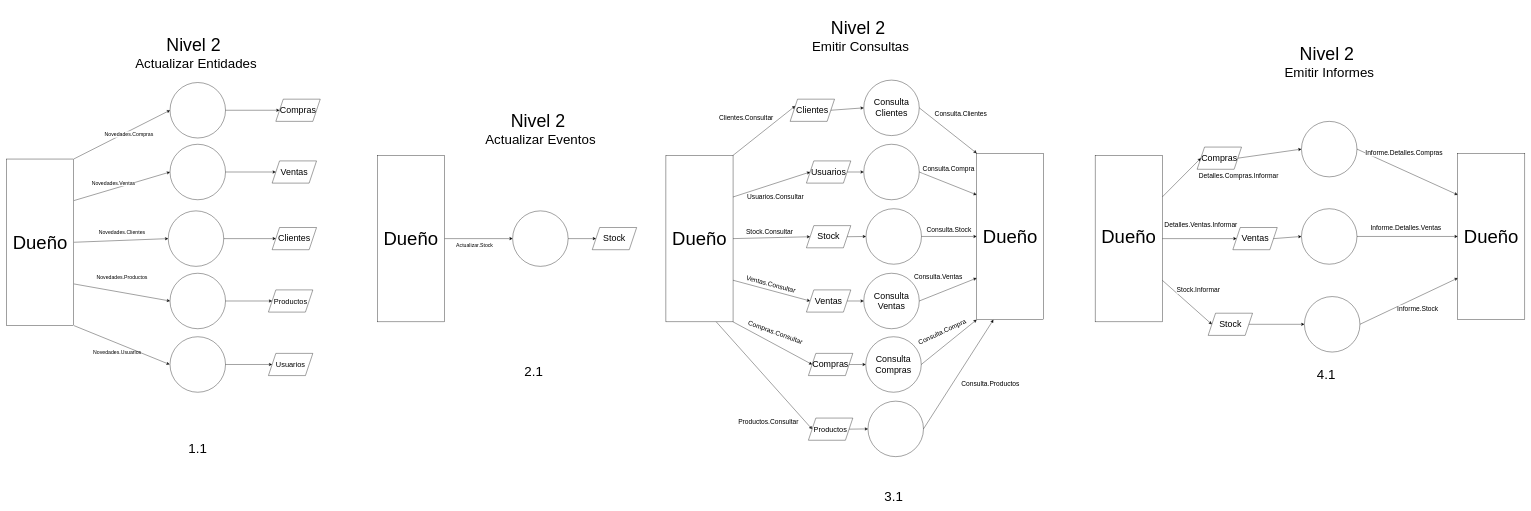
This 1531x511 diagram has some shape labels left out. The shapes that lost their labels are listed below. From the top down, each one's box as (x1, y1, x2, y2) in pixels, then its label:
(170, 82, 226, 138): Actualizar Compras
(1301, 121, 1357, 177): Informe Detalles Compras
(170, 144, 226, 200): Actualizar Ventas
(863, 144, 919, 200): Consulta Usuarios
(168, 210, 224, 266): Actualizar Clientes
(512, 210, 568, 266): Actualizar Stock
(866, 208, 921, 264): Consulta Stock
(1301, 208, 1357, 264): Informe Detalles Ventas
(170, 273, 226, 329): Actualizar Productos
(1304, 296, 1360, 352): Informe Stock
(170, 336, 226, 392): Actualizar Usuarios
(868, 401, 923, 457): Consulta Productos
